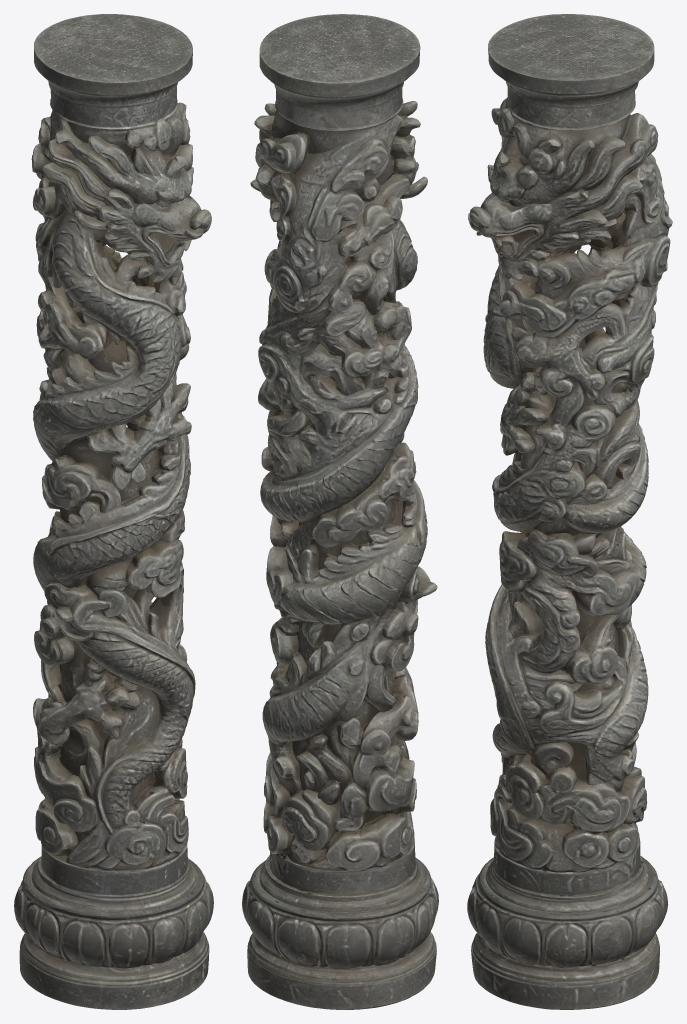
The model's file is dragon-column.glb.
The picture shows the model from 3 angles, left to right: view 1: azimuth 30°, elevation 25°; view 2: azimuth 150°, elevation 25°; view 3: azimuth 270°, elevation 25°; orthographic projection.
Visible parts, largest first — view 1: model; view 2: model; view 3: model.
Boxes of the visible parts, x1,y1,x2,y2 form: model: (14,14,213,1009); model: (242,14,438,1009); model: (467,14,672,1009).
Size of the model in its own units: 0.3662 by 1.9 by 0.3822.
Materials: 1 (1 with a texture image).
